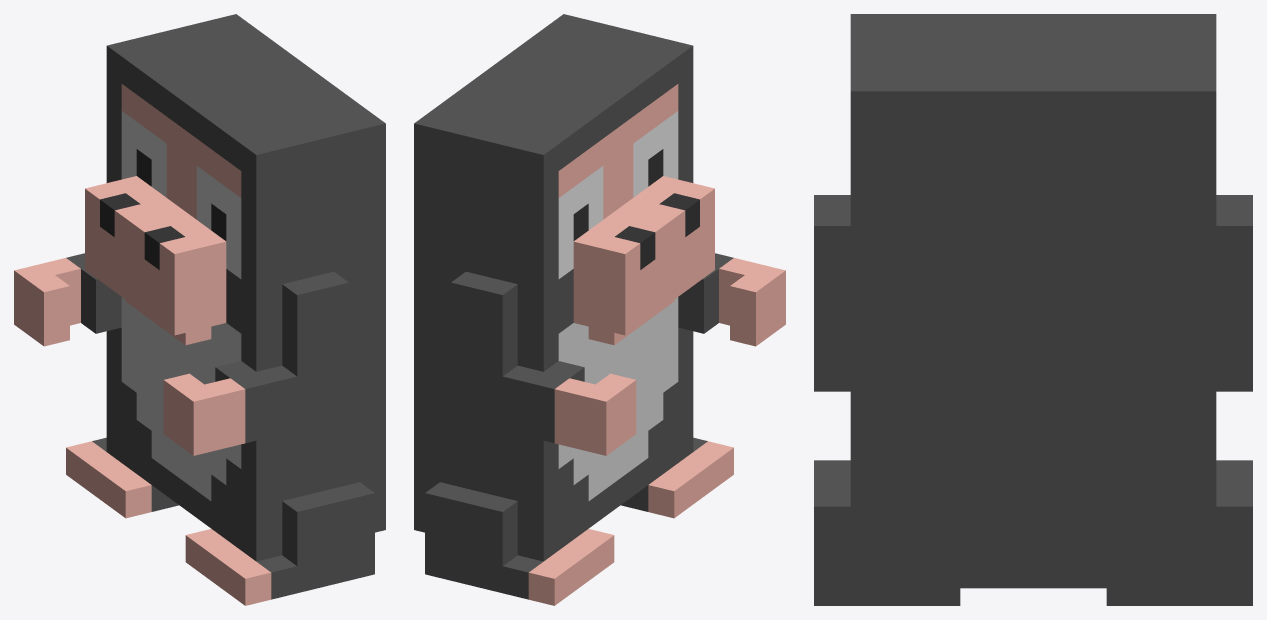
Rendered from chapter3_gorilla.fbx.
The picture shows the model from 3 angles, left to right: view 1: azimuth 30°, elevation 25°; view 2: azimuth 150°, elevation 25°; view 3: azimuth 270°, elevation 25°; orthographic projection. The views are drawn at different scales.
Parts seen in each view (by area): view 1: Box; view 2: Box; view 3: Box.
Part boxes in pixels (bbox=[...]): Box: bbox=[14, 14, 385, 605]; Box: bbox=[414, 14, 785, 605]; Box: bbox=[814, 14, 1252, 605].
Size of the model in its own units: 8 by 16 by 12.
